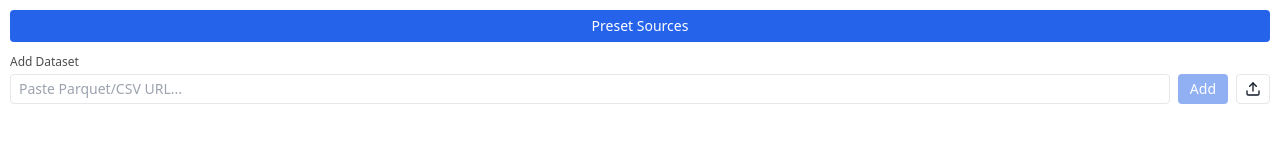
DatasetInput success flash › shows green border and checkmark on successful submit
This screenshot has width=1280, height=160.
Type "https://example.com/data.parquet" into the field with placeholder "Paste Parquet/CSV URL..." at [590, 89], box [10,74,1170,104]
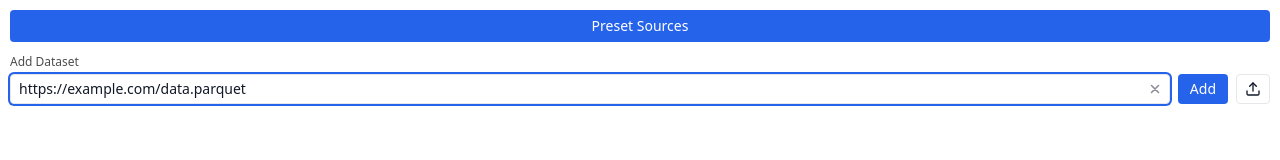
Click the button "Add" at [1203, 89], box [1178,74,1228,104]
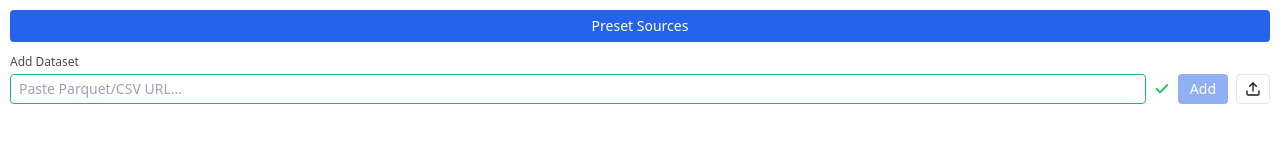
Result: the element with test id "url-success-icon" is shown at [1154,81,1170,97]
